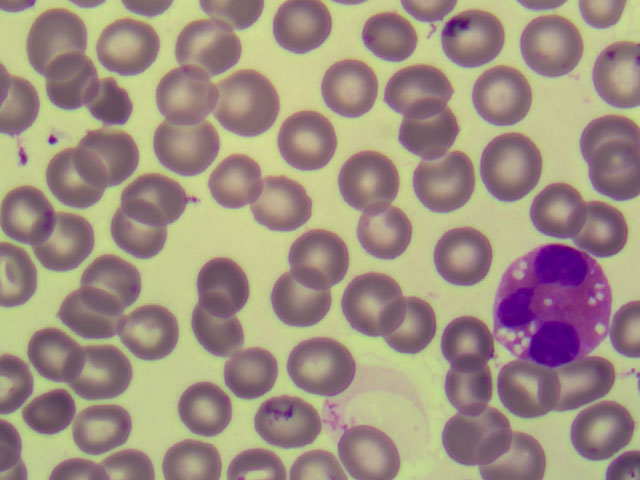RBC: (158, 419, 223, 480), (337, 419, 402, 480), (478, 419, 543, 480), (24, 10, 89, 70), (32, 37, 97, 97), (80, 75, 145, 135), (91, 25, 156, 85), (81, 118, 146, 178), (48, 143, 113, 203), (40, 204, 105, 264), (77, 253, 142, 313), (58, 288, 123, 348), (18, 318, 83, 378), (67, 341, 132, 401), (11, 386, 76, 446), (68, 398, 133, 458), (168, 374, 233, 434), (249, 390, 314, 450), (281, 335, 346, 395), (215, 341, 280, 401), (183, 299, 248, 359), (188, 254, 253, 314), (117, 307, 182, 367), (100, 201, 165, 261), (125, 166, 190, 226), (148, 119, 213, 179), (154, 59, 219, 119), (168, 14, 233, 74), (219, 61, 284, 121), (199, 147, 264, 207), (241, 172, 306, 232), (270, 110, 335, 170), (309, 60, 374, 120), (267, 6, 332, 66), (354, 5, 419, 65), (386, 57, 451, 117), (396, 95, 461, 155), (419, 158, 484, 218), (425, 228, 490, 288), (377, 292, 442, 352), (333, 275, 398, 335), (286, 219, 351, 279), (269, 266, 334, 326), (346, 201, 411, 261), (337, 154, 402, 214), (429, 305, 494, 365), (434, 355, 499, 415), (440, 400, 505, 460), (498, 354, 563, 414), (551, 347, 616, 407), (575, 394, 640, 454), (573, 192, 638, 252), (531, 177, 596, 237), (477, 130, 542, 190), (468, 66, 533, 126), (438, 6, 503, 66), (515, 15, 580, 75), (575, 47, 640, 107), (575, 103, 640, 163), (575, 143, 640, 203), (1, 178, 65, 238)
WBC: (497, 241, 607, 364)
